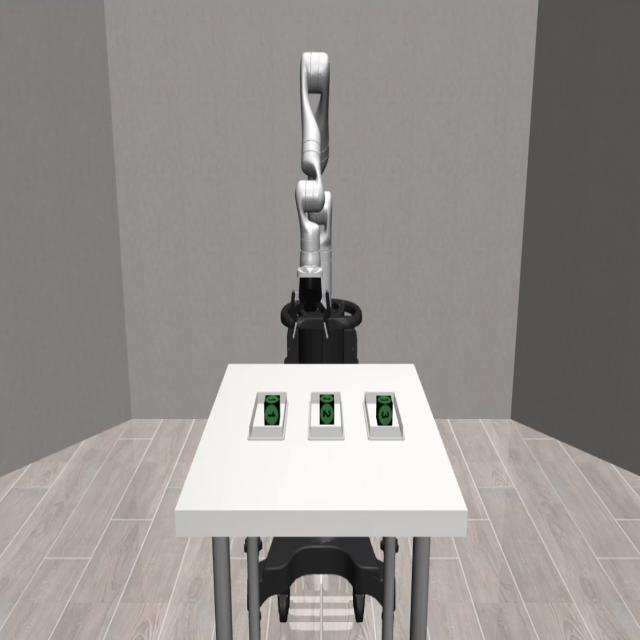cube1: (264, 395, 280, 425)
cube2: (318, 395, 335, 423)
cube3: (376, 396, 393, 428)
